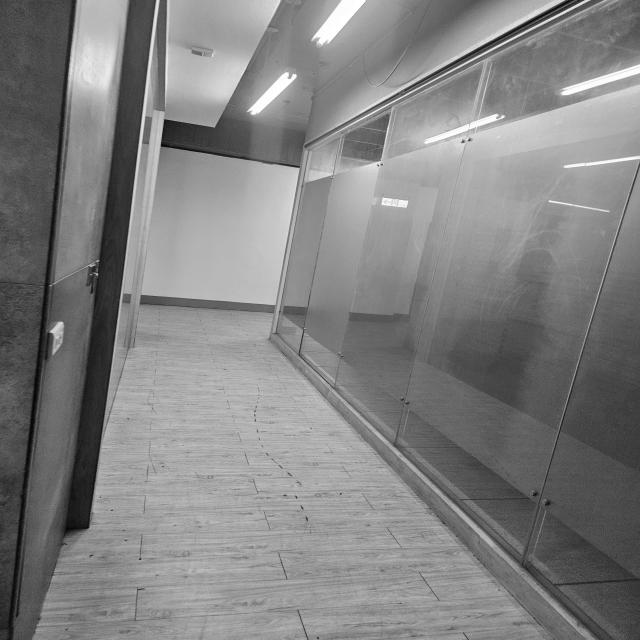Road-Object: (34, 307, 551, 640)
